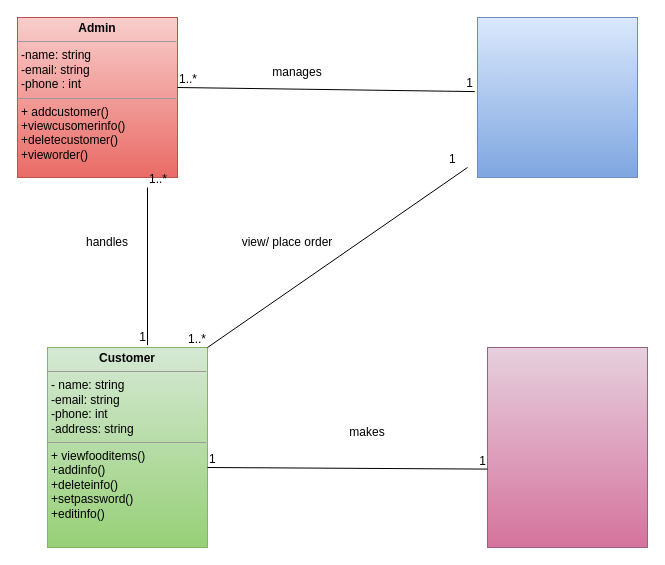
This 665x565 diagram has some shape labels left out. The box of each missing label's shape, as (x1, y1, x2, y2) in pixels:
Food Items -name: string -price: float +listFoodItems(): (476, 16, 638, 178)
Payment -customerid: int -name:string -paymentype: string + payment(): (486, 346, 648, 548)
